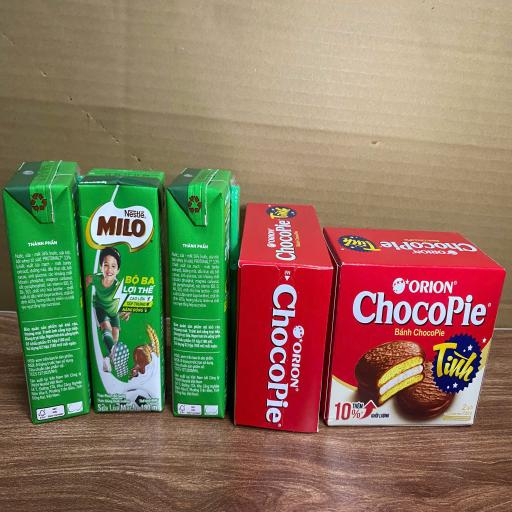chocopie: (319, 226, 506, 426), (233, 202, 334, 432)
milo: (2, 158, 92, 424), (76, 168, 166, 413), (165, 167, 240, 418)
